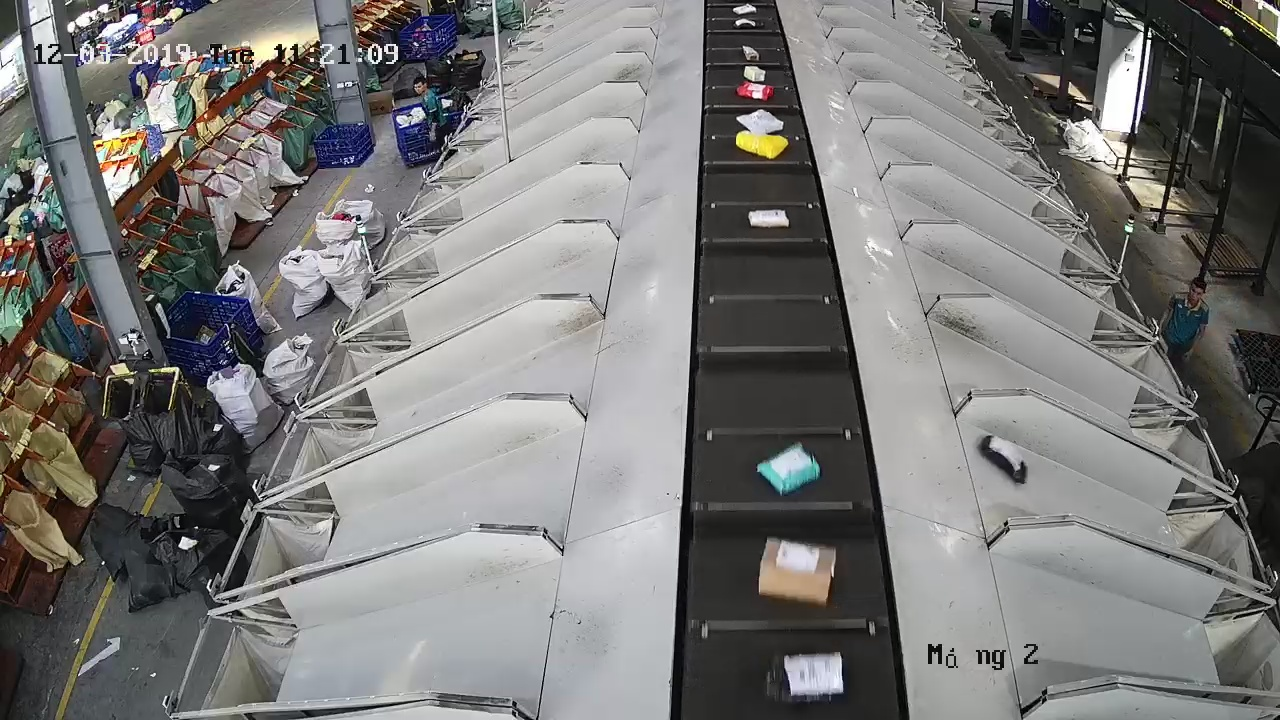parcel: (757, 536, 837, 608), (764, 651, 846, 707), (755, 440, 822, 497), (976, 433, 1029, 485), (747, 208, 791, 229)
